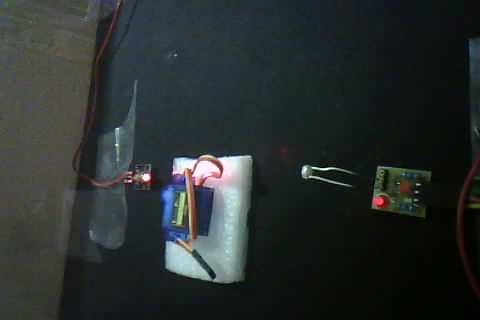motor: (156, 148, 256, 276)
